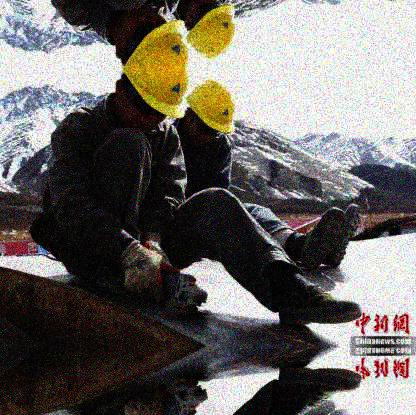helmet: (105, 67, 187, 136), (105, 4, 187, 66), (181, 80, 234, 146), (178, 1, 237, 58)
